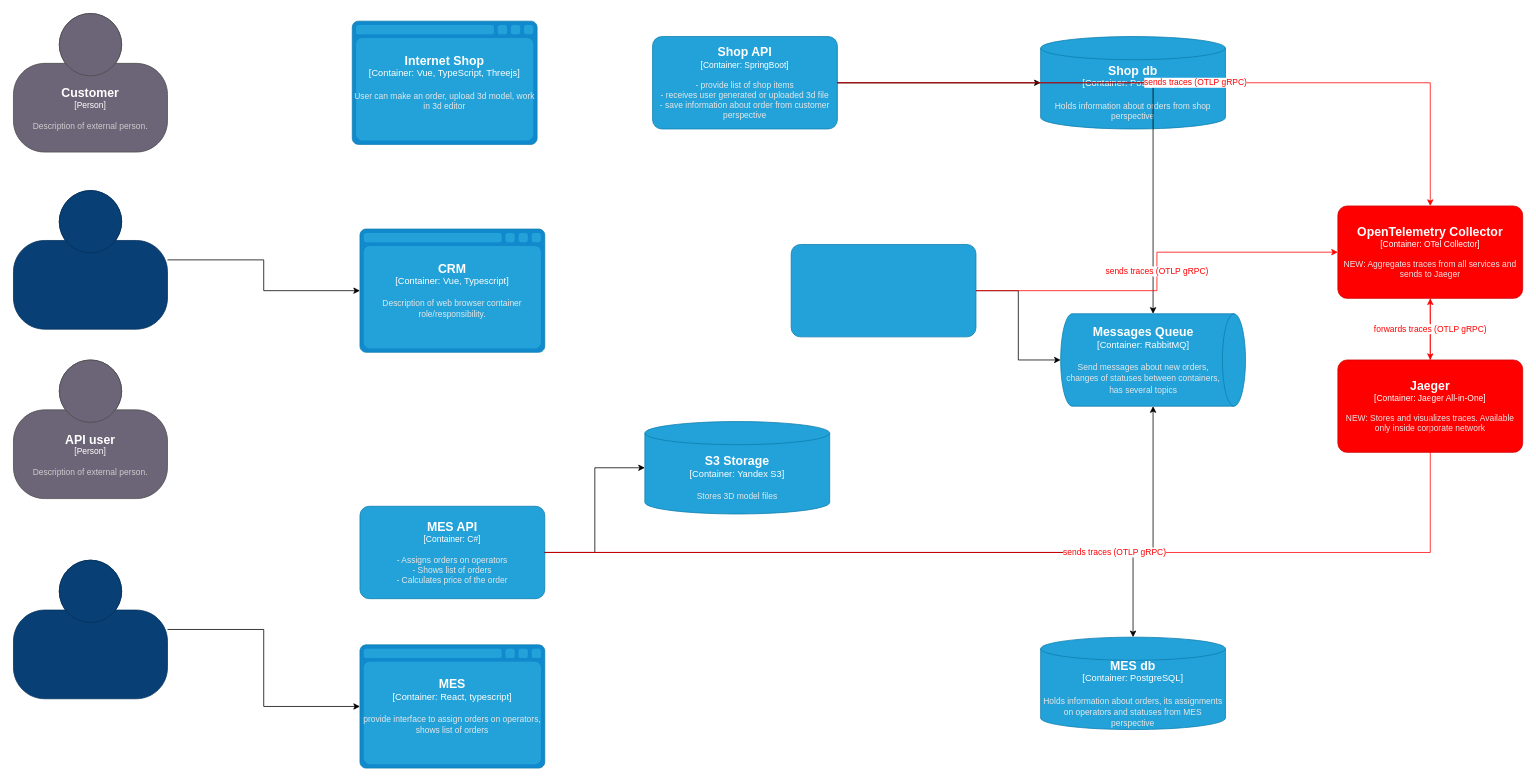
The diagram is 1536 pixels wide and 782 high, and some of its shapes have lost their labels. Each missing label, with the centre of its shape:
CRM API [Container: SpringBoot] Description of container role/responsibility.: the point at 883,290
Operator [Person] Takes order in work, manufactures jewerly: the point at 90,629
Seller [Person] Operates with order, confirms manufacturing for the user: the point at 90,259
